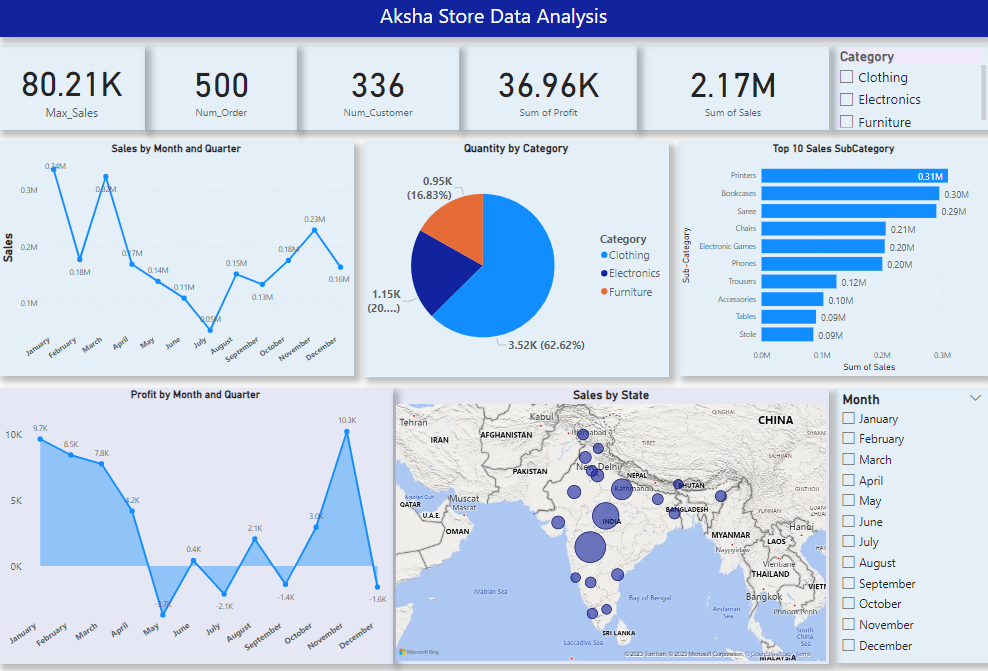

What the dashboard file says about the page in this screenshot:
{"tool":"powerbi","page":{"name":"Store_Data Analysis","canvas":[1586,1087],"ordinal":0},"visuals":[{"type":"textbox","box":[0,0,1586,62],"z":0},{"type":"card","fields":{"Values":["Dax_Measure.Max_Profit"]},"box":[0,76,236,136],"z":1000},{"type":"card","fields":{"Values":["Dax_Measure.Num_Order"]},"box":[236,76,242,136],"z":2000},{"type":"card","fields":{"Values":["Dax_Measure.Num_Customer"]},"box":[478,76,260,136],"z":3000},{"type":"card","fields":{"Values":["Sum(DETAILS.Profit)"]},"box":[740,76,282,136],"z":4000},{"type":"slicer","fields":{"Values":["DETAILS.Category"]},"box":[1334,76,252,136],"z":5000},{"type":"lineChart","title":" Sales by Month and Quarter","fields":{"Category":["ORDERS.Order Date.Variation.Date Hierarchy.Quarter","ORDERS.Order Date.Variation.Date Hierarchy.Month"],"Y":["Sum(DETAILS.Sales)"]},"box":[0,230,570,374],"z":7000},{"type":"pieChart","title":" Quantity by Category","fields":{"Category":["DETAILS.Category"],"Y":["Sum(DETAILS.Quantity)"]},"box":[584,230,490,376],"z":8000},{"type":"clusteredBarChart","title":"Top 10 Sales SubCategory","fields":{"Category":["DETAILS.Sub-Category"],"Y":["Sum(DETAILS.Sales)"]},"box":[1088,230,498,374],"z":9000},{"type":"card","fields":{"Values":["Sum(DETAILS.Sales)"]},"box":[1022,76,308,136],"z":10000},{"type":"slicer","fields":{"Values":["ORDERS.Order Date.Variation.Date Hierarchy.Month"]},"box":[1338,624,248,440],"z":12000},{"type":"areaChart","title":" Profit by Month and Quarter","fields":{"Y":["Sum(DETAILS.Profit)"],"Category":["ORDERS.Order Date.Variation.Date Hierarchy.Quarter","ORDERS.Order Date.Variation.Date Hierarchy.Month"]},"box":[0,624,632,442],"z":12001},{"type":"map","title":" Sales by State","fields":{"Category":["ORDERS.State"],"Size":["Sum(DETAILS.Sales)"]},"box":[632,624,698,442],"z":12002}]}

Visuals, with their boxes in screenshot pixels (x1, y1, x2, y2), scaled from the page's 1586x1087 canvas onto the 988x671 screenshot:
textbox: [x1=0, y1=0, x2=987, y2=38]
card - Dax_Measure.Max_Profit: [x1=0, y1=47, x2=147, y2=131]
card - Dax_Measure.Num_Order: [x1=147, y1=47, x2=298, y2=131]
card - Dax_Measure.Num_Customer: [x1=298, y1=47, x2=460, y2=131]
card - Sum(DETAILS.Profit): [x1=461, y1=47, x2=637, y2=131]
slicer - DETAILS.Category: [x1=831, y1=47, x2=987, y2=131]
" Sales by Month and Quarter" lineChart: [x1=0, y1=142, x2=355, y2=373]
" Quantity by Category" pieChart: [x1=364, y1=142, x2=669, y2=374]
"Top 10 Sales SubCategory" clusteredBarChart: [x1=678, y1=142, x2=987, y2=373]
card - Sum(DETAILS.Sales): [x1=637, y1=47, x2=829, y2=131]
slicer - ORDERS.Order Date.Variation.Date Hierarchy.Month: [x1=834, y1=385, x2=987, y2=657]
" Profit by Month and Quarter" areaChart: [x1=0, y1=385, x2=394, y2=658]
" Sales by State" map: [x1=394, y1=385, x2=829, y2=658]
